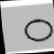no answer: (21, 18, 54, 43)
